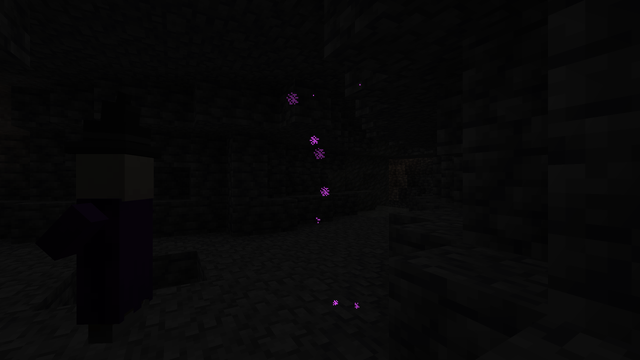sorcieres: (71, 144, 152, 350)
